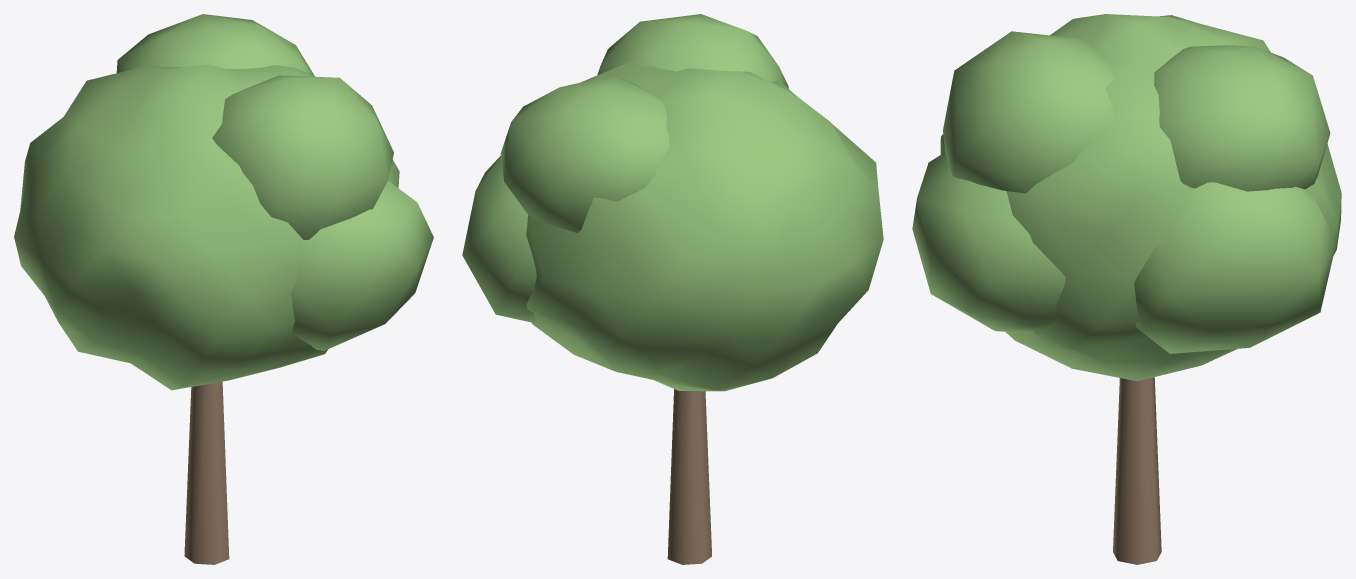
File: tree_puffy_c.glb
3 views of the same model, side by side, from view 1: azimuth 30°, elevation 25°; view 2: azimuth 150°, elevation 25°; view 3: azimuth 270°, elevation 25° (orthographic). The views are drawn at different scales.
Visible parts, largest first — view 1: tree_puffy_c; view 2: tree_puffy_c; view 3: tree_puffy_c.
Part boxes in pixels (left/top/right/bottom): tree_puffy_c: left=14, top=14, right=433, bottom=564; tree_puffy_c: left=462, top=14, right=883, bottom=564; tree_puffy_c: left=912, top=14, right=1341, bottom=564.
Size of the model in its own units: 3.34 by 4.53 by 3.29.
